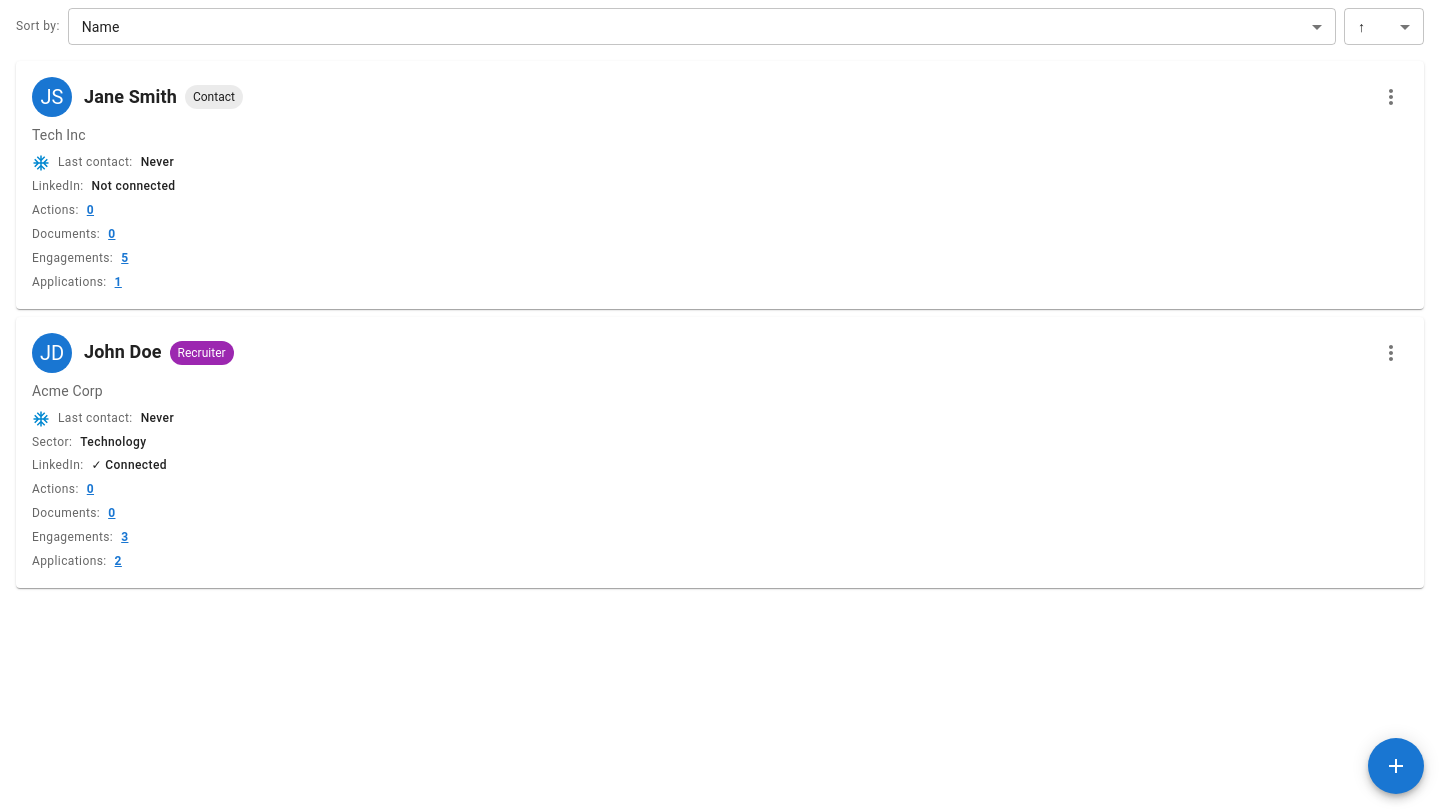
Test: BottomPanel Mobile Modals › Contact Roles Modal › should open roles modal when clicking roles count on contact card
Expected: the text "John Doe" is shown, top-left (84, 338), bottom-right (162, 367)
Find and click the applications/roles count (should be "2")
Click the button "2" at (118, 562), box top-left (115, 552), bottom-right (122, 572)
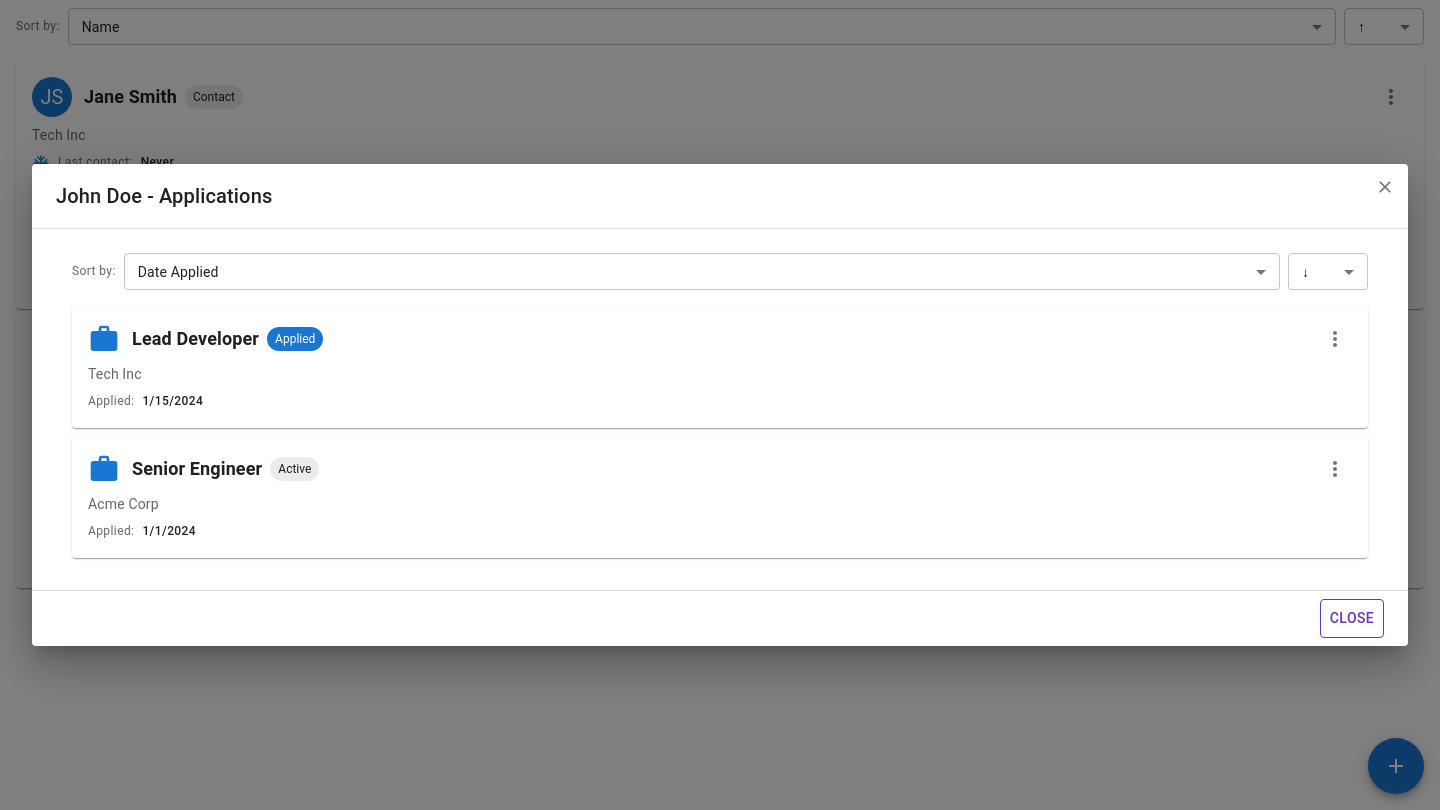
Expected: the heading "John Doe - Applications" is shown, top-left (56, 184), bottom-right (272, 208)
Expected: the text "Senior Engineer" is shown, top-left (132, 455), bottom-right (262, 484)
Expected: the text "Lead Developer" is shown, top-left (132, 325), bottom-right (259, 354)
